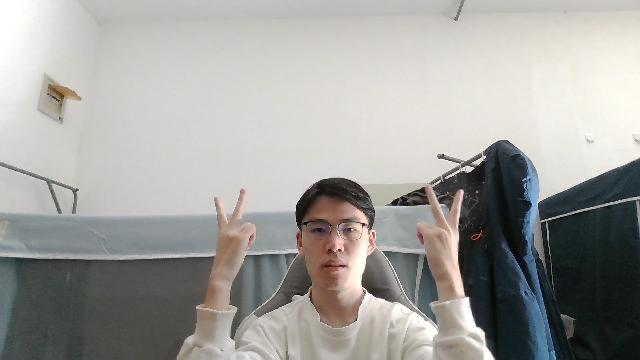yes: (204, 183, 259, 303), (412, 182, 464, 293)
